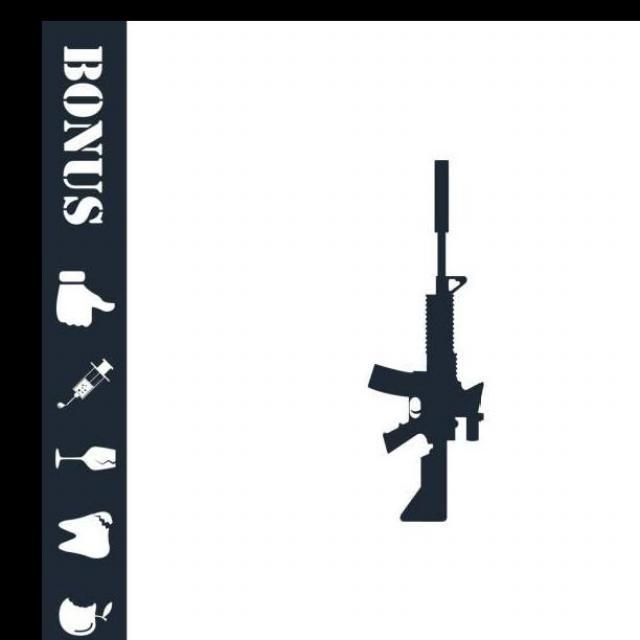weapon: (367, 160, 485, 522)
